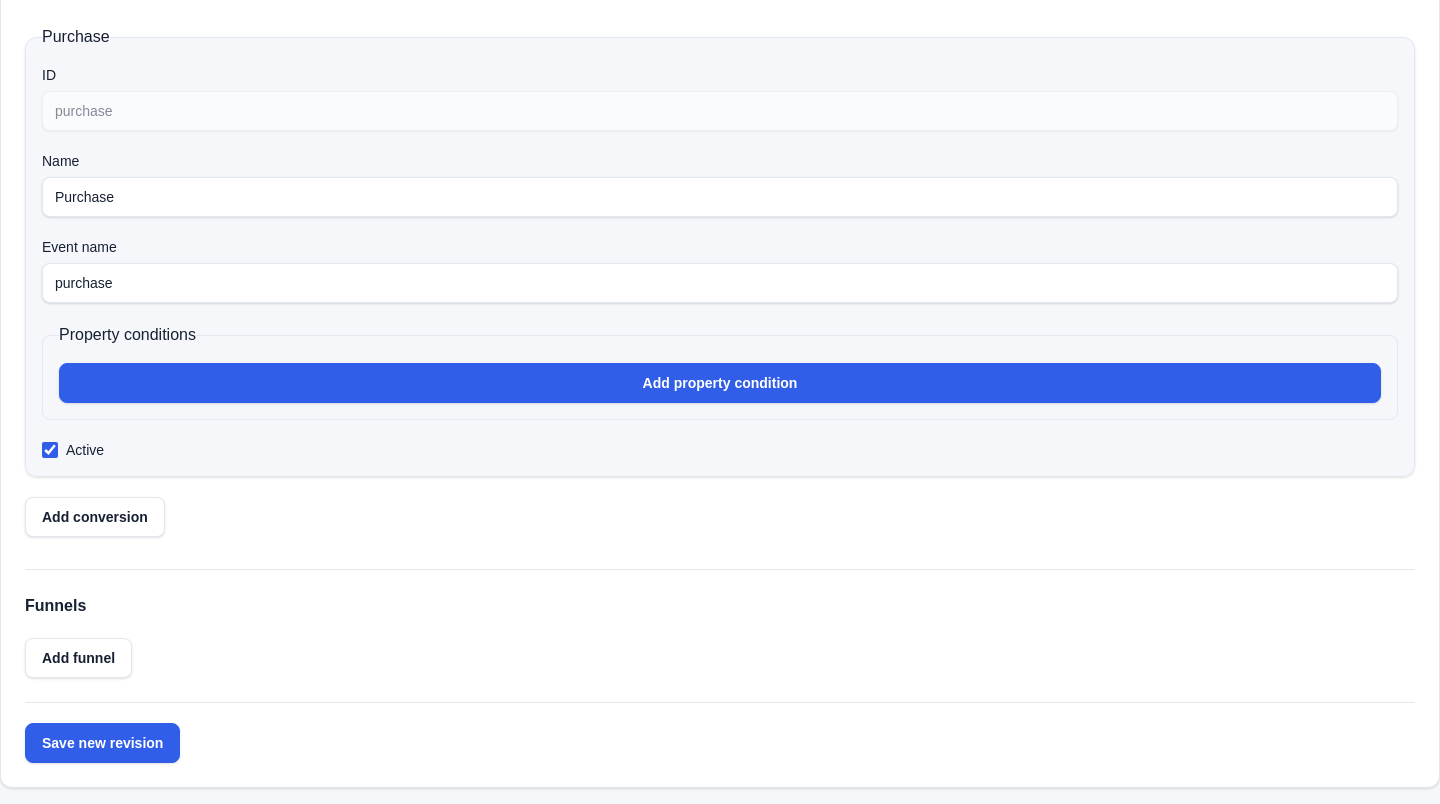
DefinitionEditor › displays server validation errors
(page scrolled)
Click the button "Save new revision": click(103, 743) [25,723,180,763]
(page scrolled)
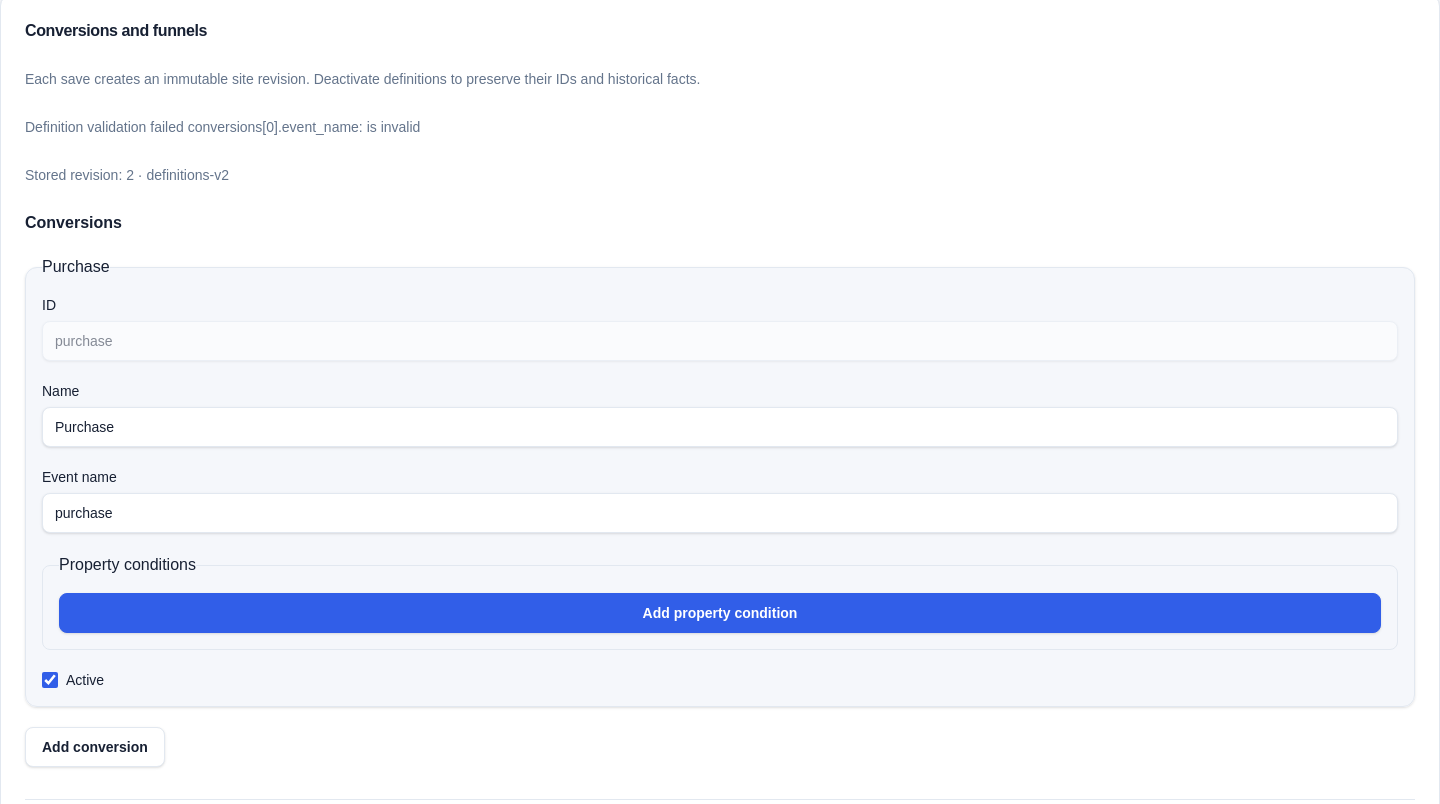
Expected: the message "Definition validation failed conversions[0].event_name: is invalid" is shown, [25,119,420,135]
